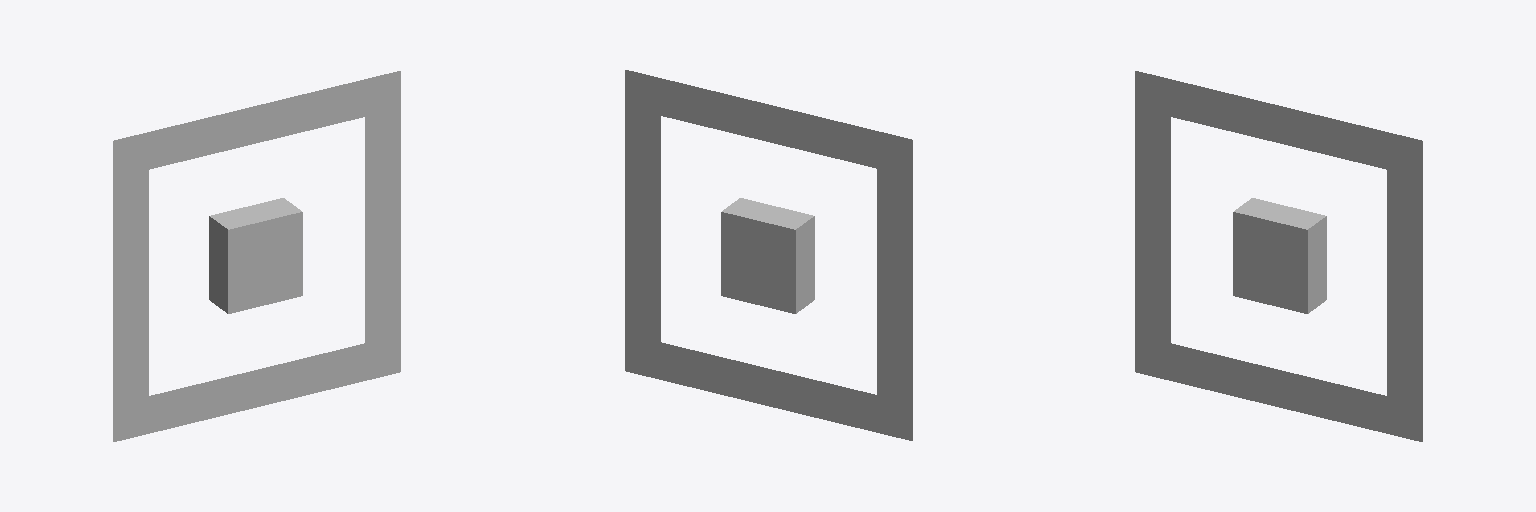
File: Ret.obj
The picture shows the model from 3 angles: view 1: azimuth 30°, elevation 25°; view 2: azimuth 150°, elevation 25°; view 3: azimuth 330°, elevation 25°; orthographic projection.
Visible parts, largest first — view 1: 立方体; view 2: 立方体; view 3: 立方体.
Part boxes in pixels (bbox=[...]): 立方体: bbox=[113, 71, 400, 441]; 立方体: bbox=[625, 70, 912, 440]; 立方体: bbox=[1135, 71, 1422, 441].
Size of the model in its own units: 0.3103 by 0.3103 by 0.0357.